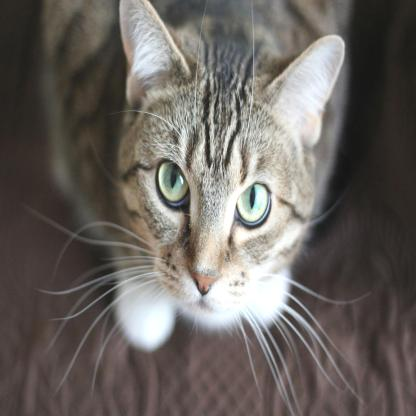cat: (34, 2, 371, 410)
